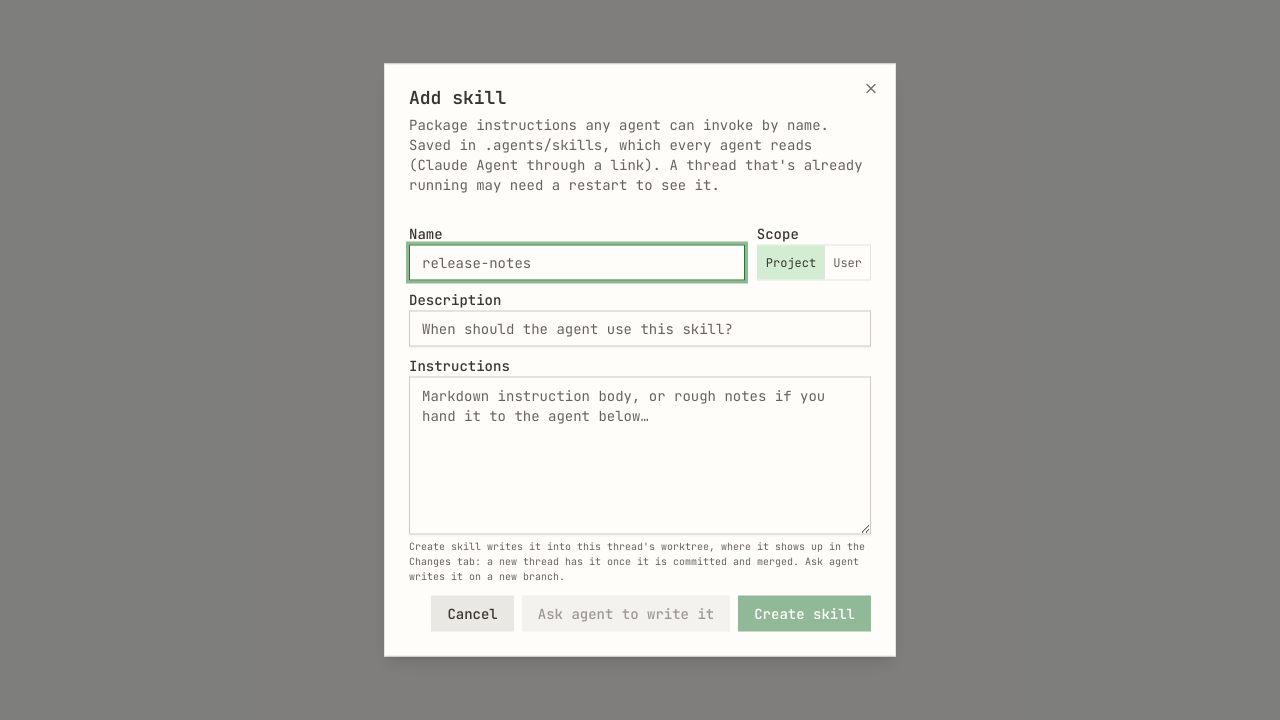
AddSkillDialog › shows main's reason without Electron's wrapper
The image size is (1280, 720).
In the field labelled "Name": coordinates (577, 262) [409,244,745,280], type "notes"
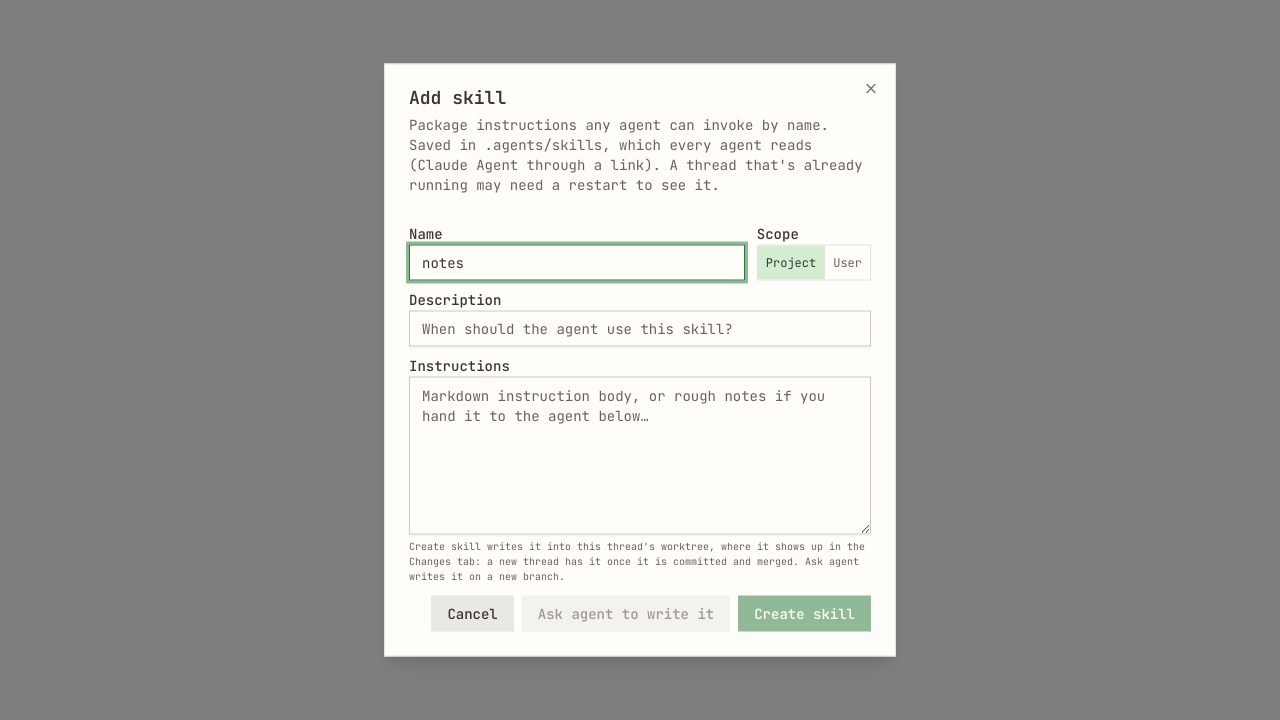
In the field labelled "Description": coordinates (640, 328) [409,310,871,346], type "Draft notes"
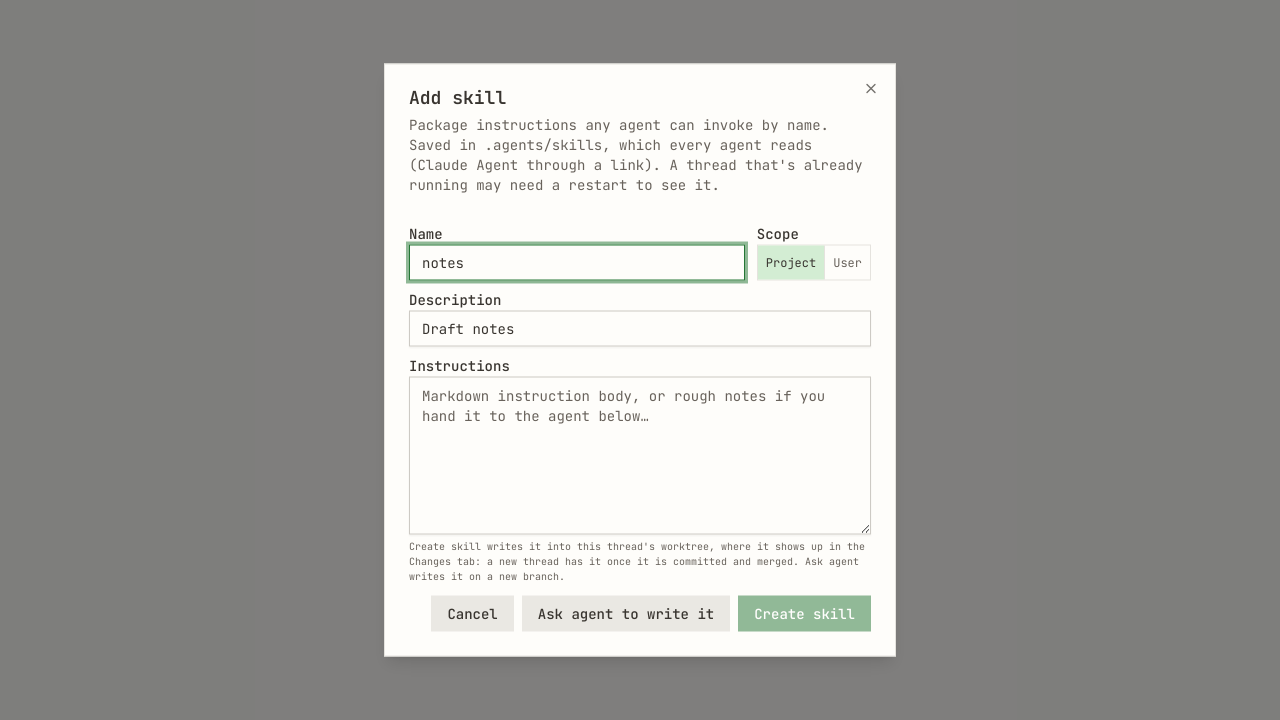
Replace the text in the text box labelled "Instructions" with "Do it": coordinates (640, 456) [409,376,871,534]
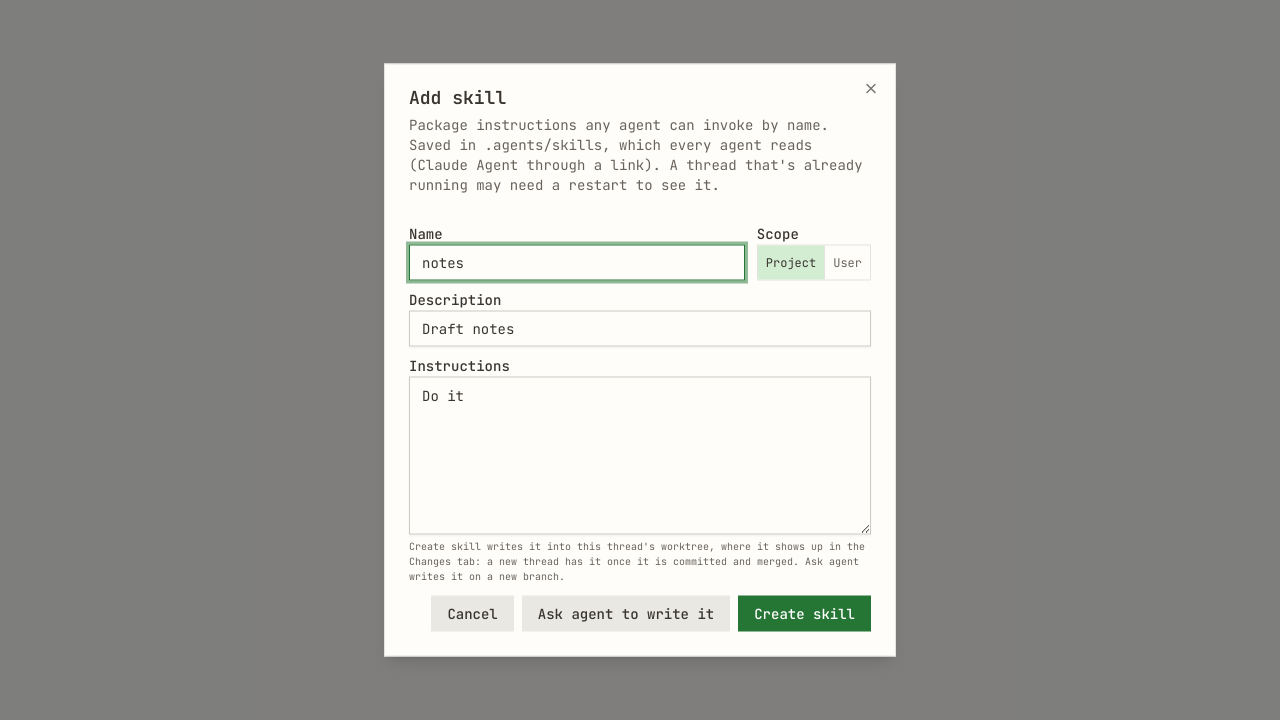
Click the button "Create skill": coordinates (805, 614) [738,596,871,632]
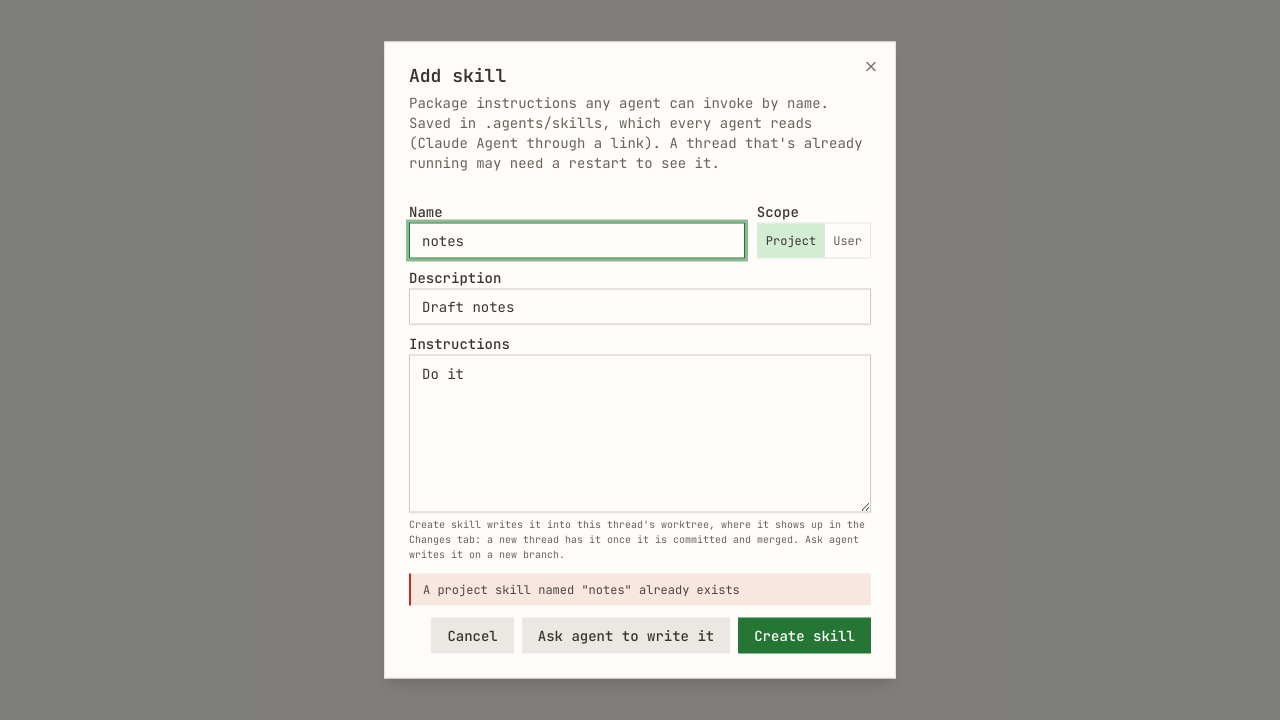
Result: the text "A project skill named \"notes\" already exists" is shown at [423,582,740,598]
